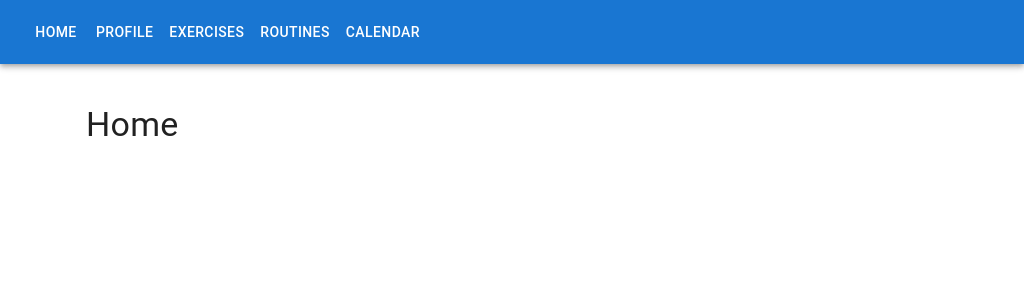
Test: Exercise › should fail to add exercise because exercise name is too short.
The image size is (1024, 298).
Click the link "Exercises" at (207, 32), box [169,24,244,40]
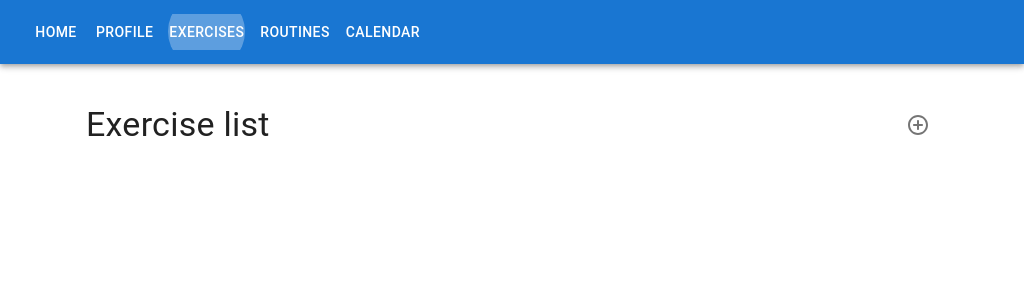
Now the heading "Exercise list" is shown, box [86,104,270,146]
Click the icon with test id "AddCircleOutlineRoundedIcon" at (918, 125), box [906,113,930,137]
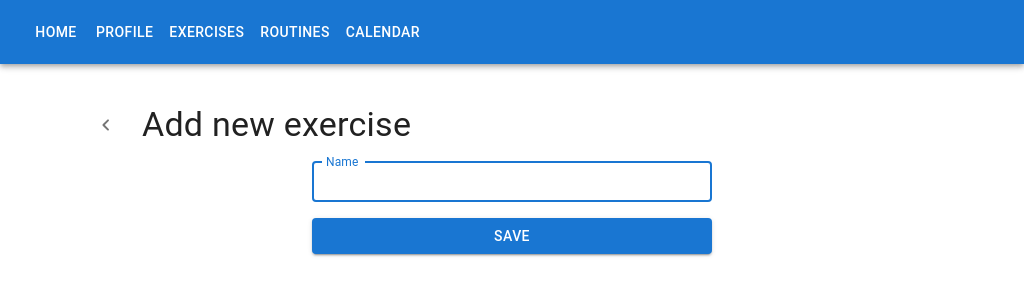
Type "Ab" into the field labelled "Name" at (512, 182), box [312,162,712,202]
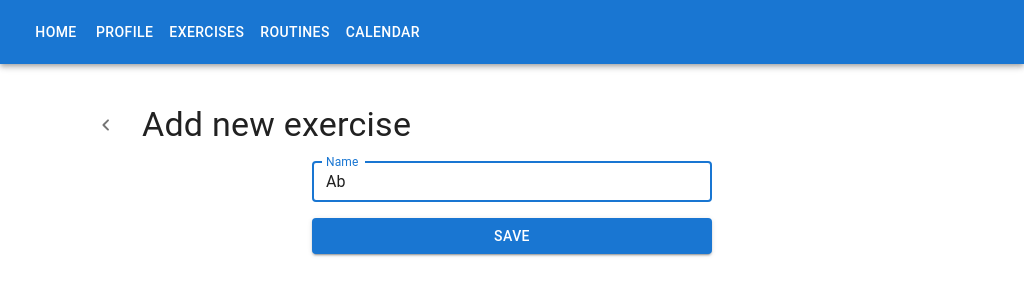
Click the button "Save" at (512, 237), box [312,218,712,255]
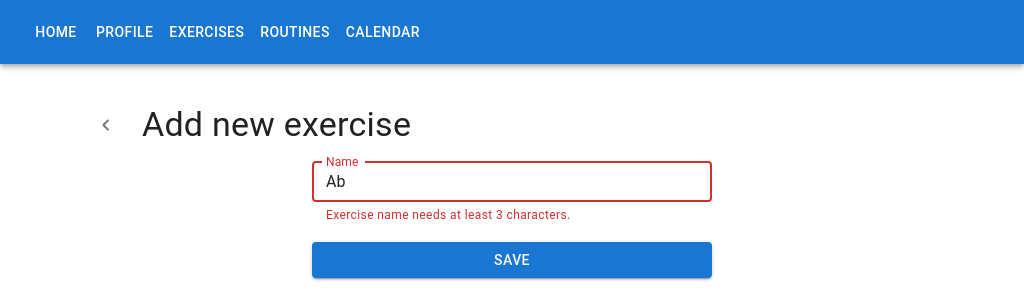
Now the text "Exercise name needs at least 3 characters." is shown, box [326,208,571,222]
